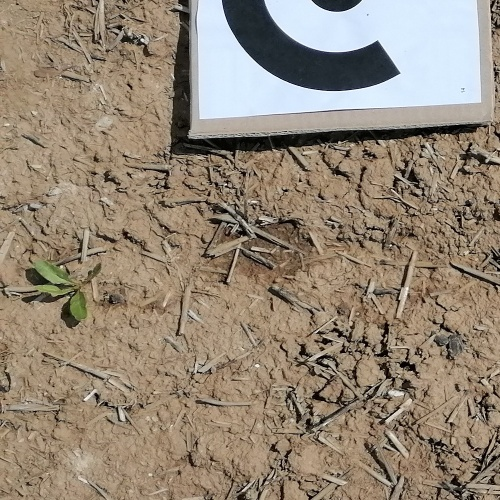beet: (29, 259, 103, 319)
